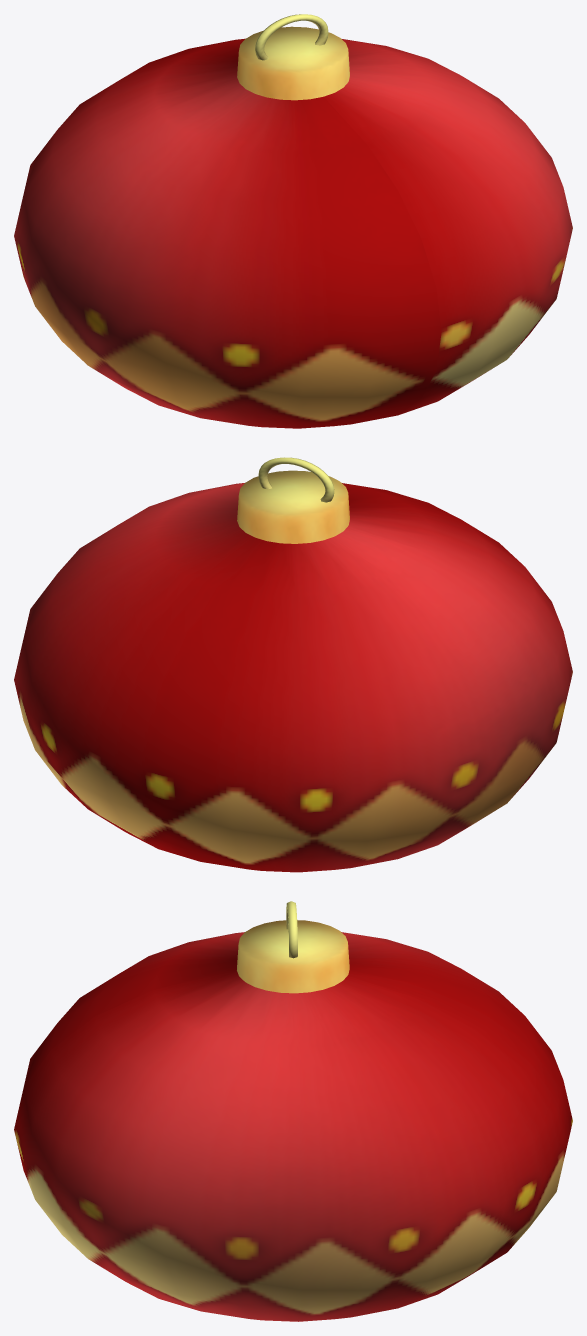
3 views of the same model, one above another, from view 1: azimuth 30°, elevation 25°; view 2: azimuth 150°, elevation 25°; view 3: azimuth 270°, elevation 25° (orthographic).
Visible parts, largest first — view 1: V5 Christmas Collection2.2_V5 Christmas Collection2_0.001; view 2: V5 Christmas Collection2.2_V5 Christmas Collection2_0.001; view 3: V5 Christmas Collection2.2_V5 Christmas Collection2_0.001.
Boxes of the visible parts, x1,y1,x2,y2 form: V5 Christmas Collection2.2_V5 Christmas Collection2_0.001: [14, 14, 572, 428]; V5 Christmas Collection2.2_V5 Christmas Collection2_0.001: [14, 457, 572, 872]; V5 Christmas Collection2.2_V5 Christmas Collection2_0.001: [14, 901, 572, 1321].
Size of the model in its own units: 9.64 by 7.15 by 9.64.
1 material, 1 textured.
